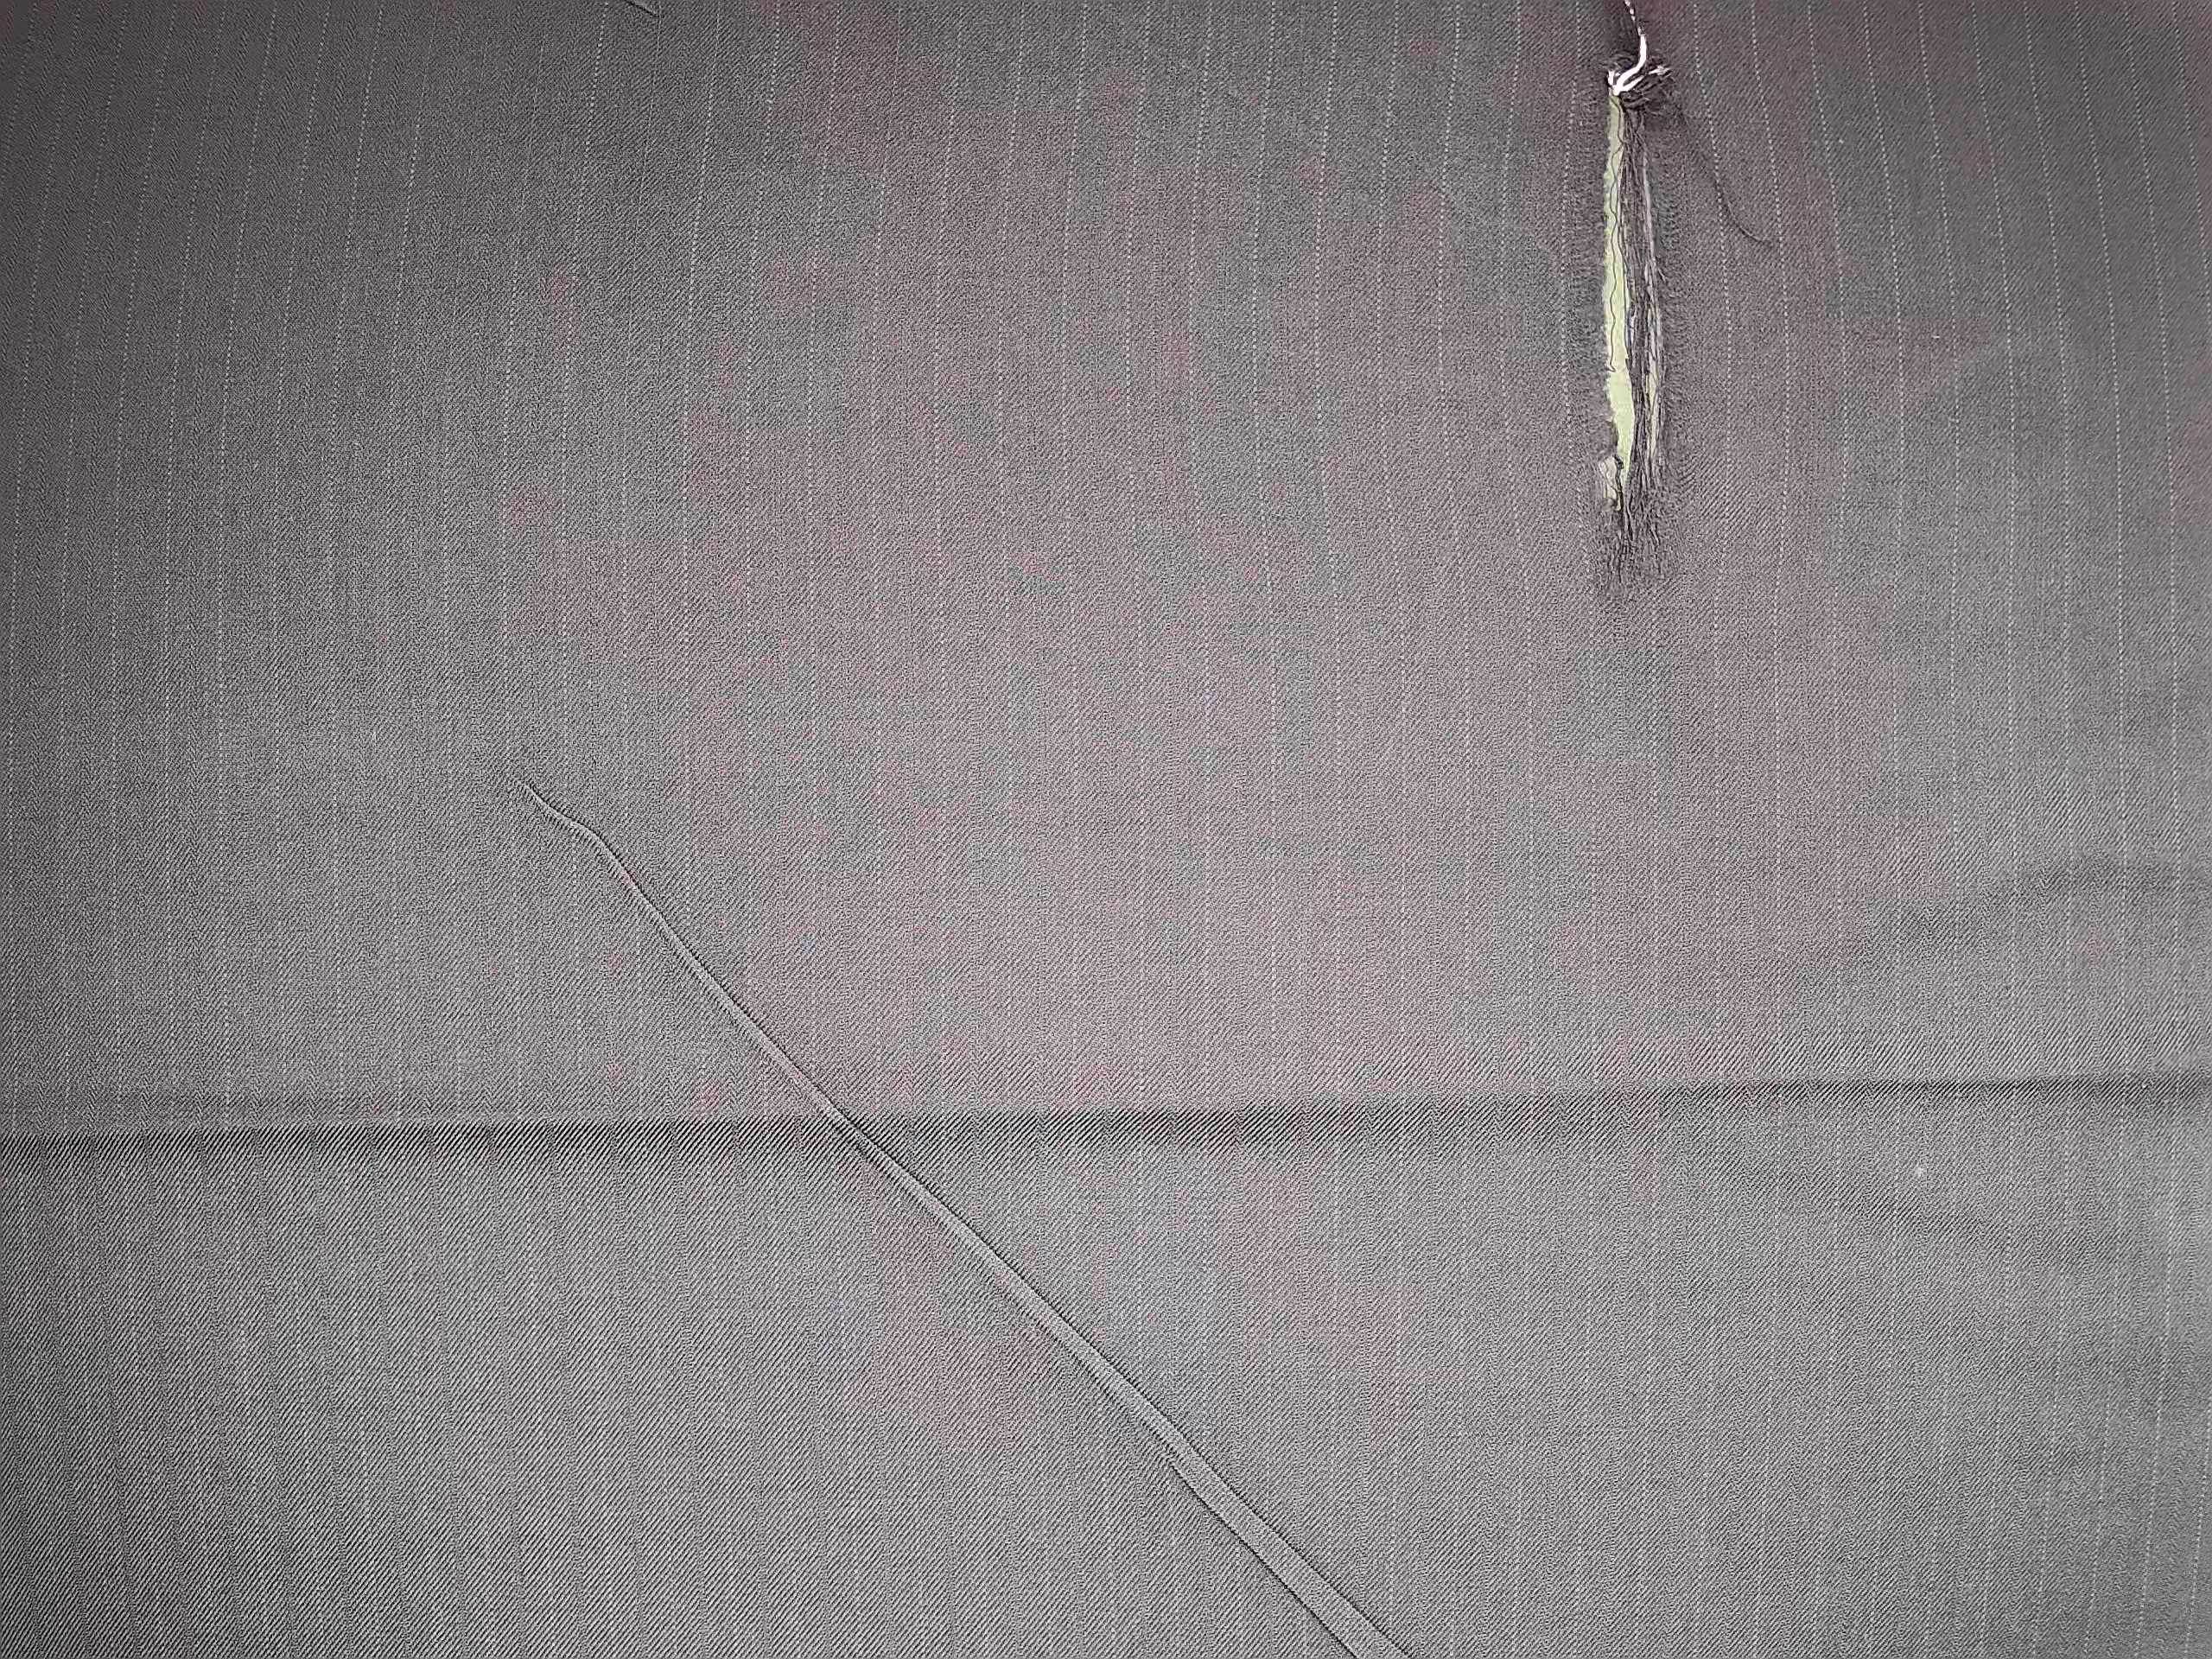hole: (1561, 0, 1714, 647)
